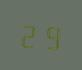nine: (40, 19, 60, 50)
two: (19, 18, 39, 49)
